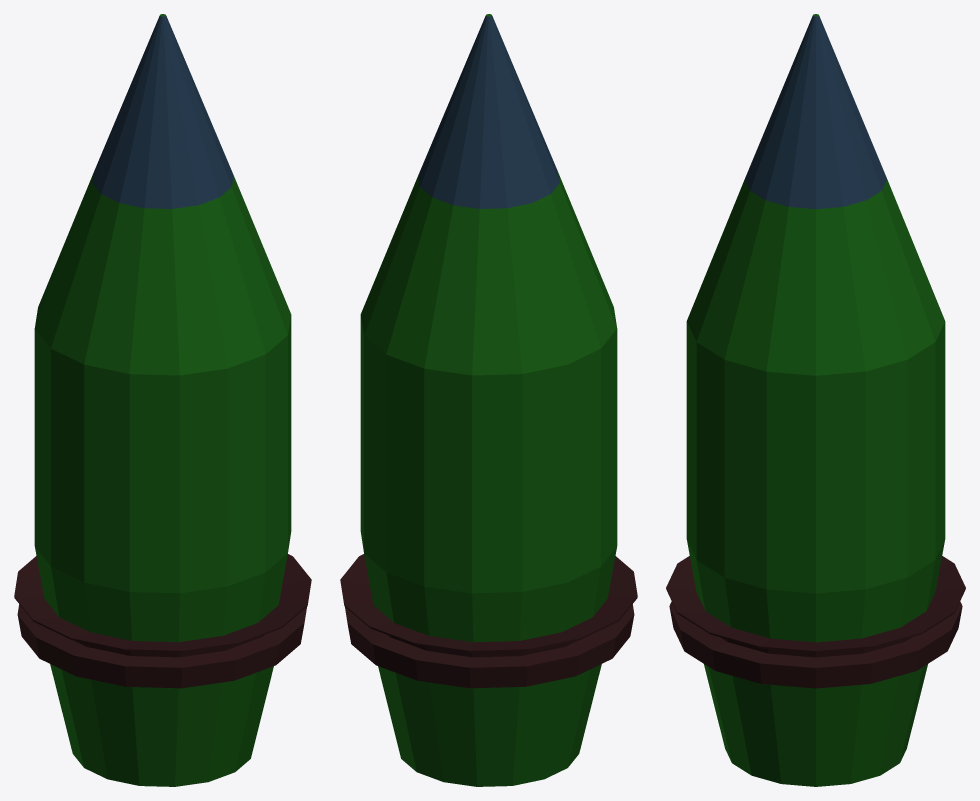
Rendered from Bullet.fbx.
3 renders of one model, left to right at view 1: azimuth 30°, elevation 25°; view 2: azimuth 150°, elevation 25°; view 3: azimuth 270°, elevation 25°, orthographic.
Parts seen in each view (by area): view 1: Cylinder; view 2: Cylinder; view 3: Cylinder.
Part boxes in pixels (x1,y1,x2,y2): Cylinder: [14, 14, 311, 786]; Cylinder: [340, 14, 637, 786]; Cylinder: [666, 14, 965, 786].
Bounding box in the file's own units: 84.56 × 228 × 84.56.
